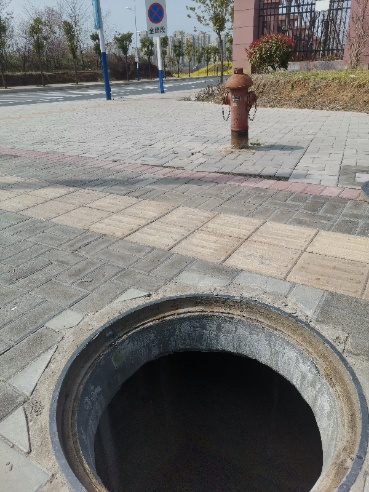lose: (51, 292, 369, 489)
